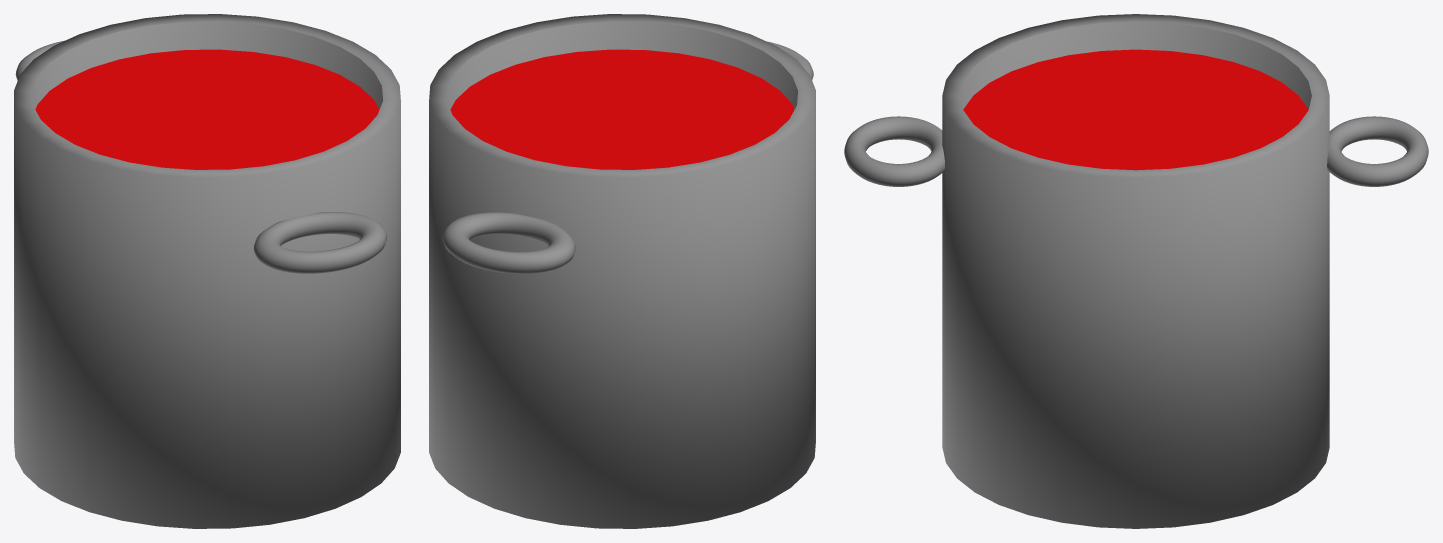
File: olla_sopa_tomate.fbx
3 renders of one model, left to right at view 1: azimuth 30°, elevation 25°; view 2: azimuth 150°, elevation 25°; view 3: azimuth 270°, elevation 25°, orthographic.
Visible parts, largest first — view 1: Circle; view 2: Circle; view 3: Circle.
Part boxes in pixels (x1,y1,x2,y2): Circle: (14,14,400,528); Circle: (429,14,815,528); Circle: (844,14,1428,528).
Size of the model in its own units: 200 by 200 by 302.
